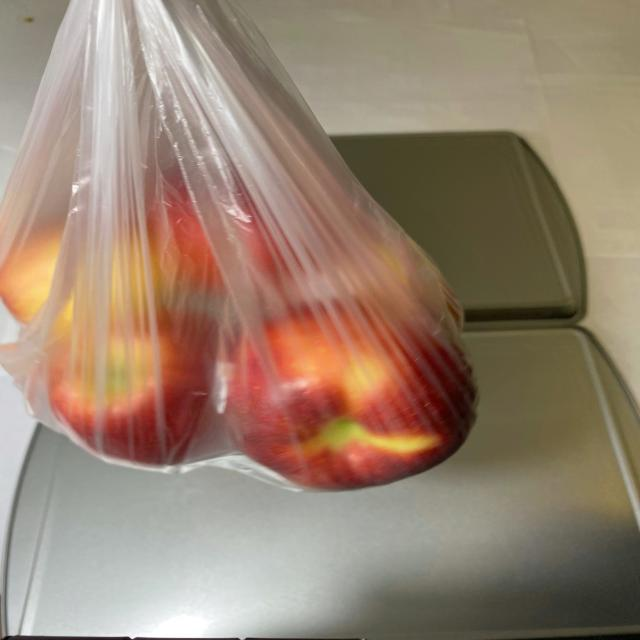apple: (2, 129, 486, 496)
